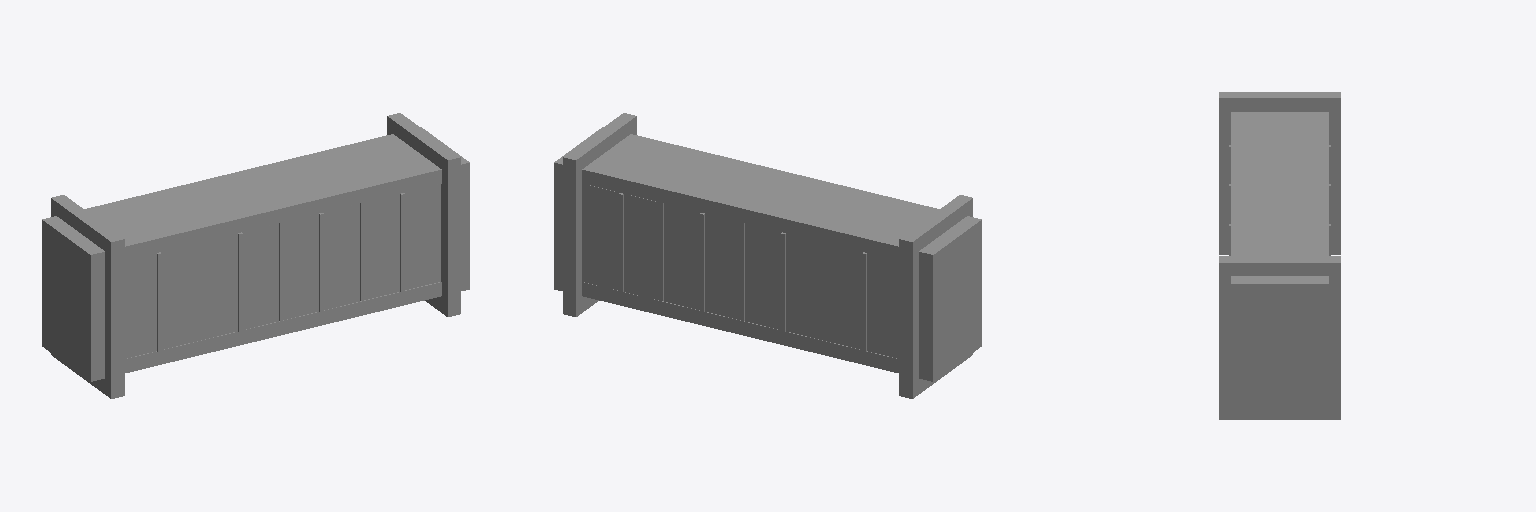
The model's file is TV_table.obj.
3 views of the same model, side by side, from view 1: azimuth 30°, elevation 25°; view 2: azimuth 150°, elevation 25°; view 3: azimuth 270°, elevation 25° (orthographic).
Visible parts, largest first — view 1: B9-Melrose_Plasma_Cabinet_end1; view 2: B9-Melrose_Plasma_Cabinet_end1; view 3: B9-Melrose_Plasma_Cabinet_end1.
Boxes of the visible parts, <box> form: B9-Melrose_Plasma_Cabinet_end1: <box>42,113,469,398</box>; B9-Melrose_Plasma_Cabinet_end1: <box>554,113,981,398</box>; B9-Melrose_Plasma_Cabinet_end1: <box>1219,92,1340,419</box>.
Size of the model in its own units: 1.27 by 0.5043 by 0.3533.